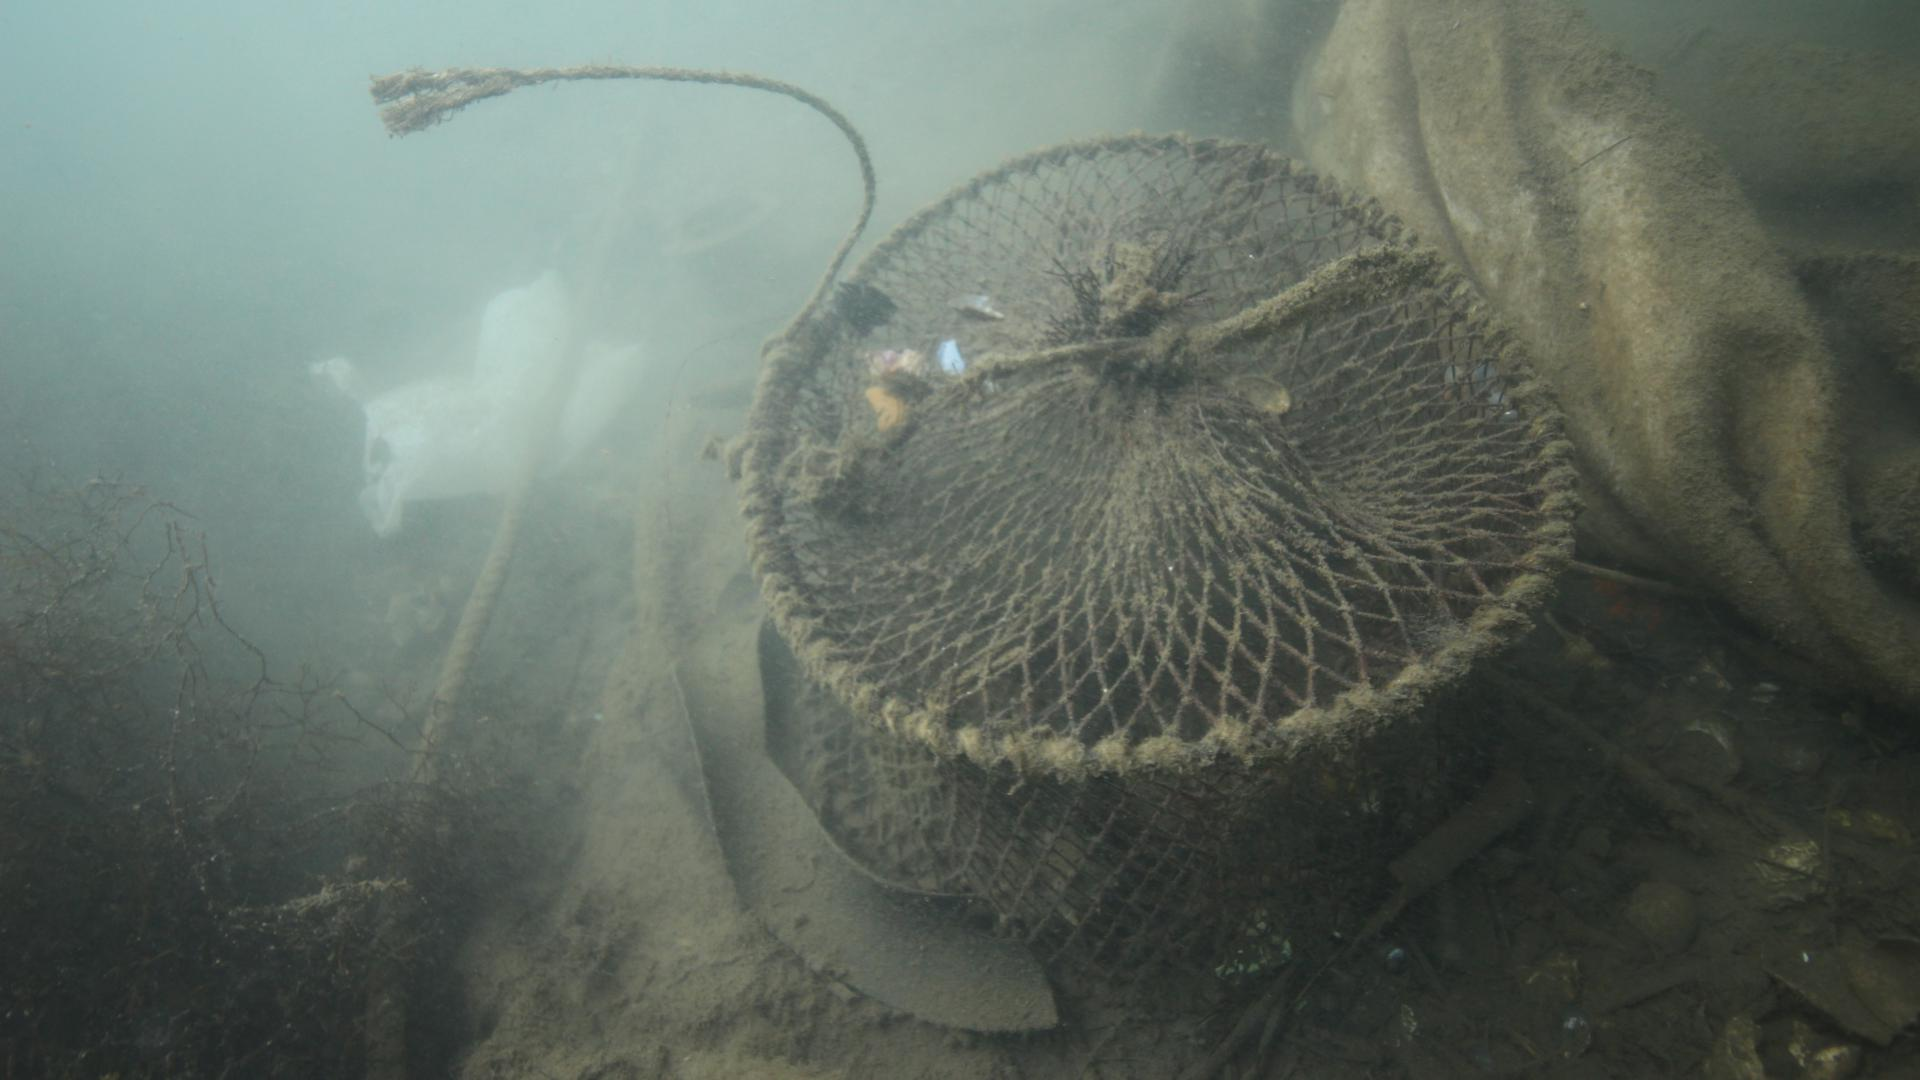circular fish trap: (736, 129, 1575, 984)
rope: (522, 61, 880, 339), (360, 512, 524, 1080)
